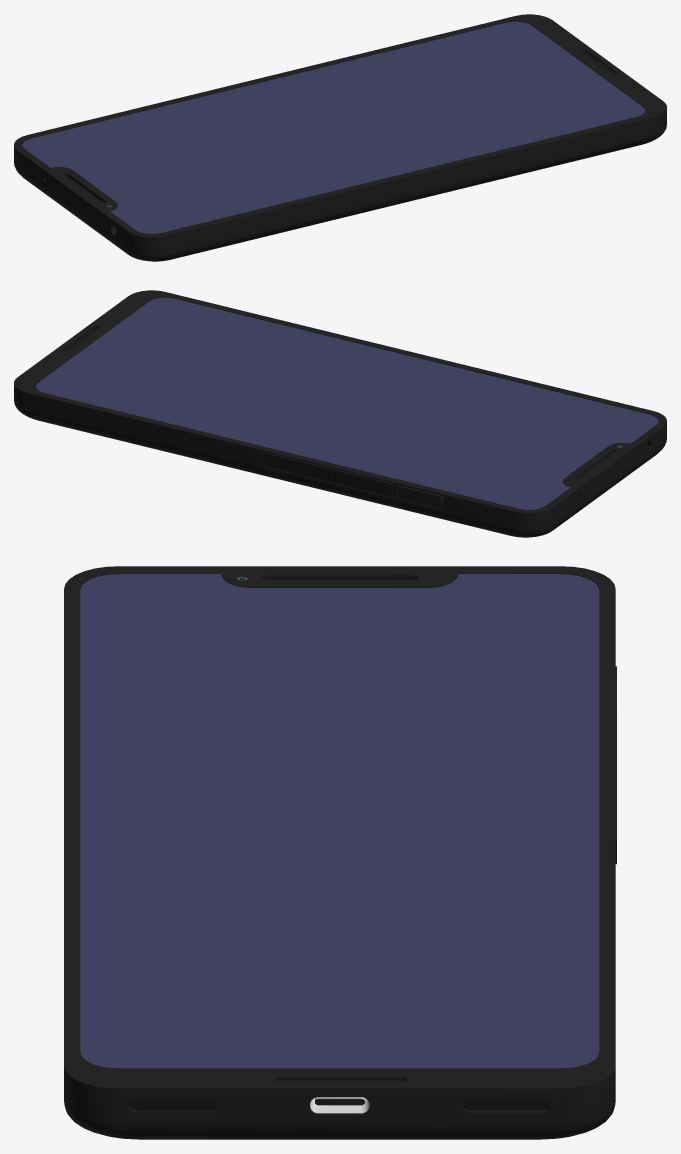
File: phone.glb
3 views of the same model, one above another, from view 1: azimuth 30°, elevation 25°; view 2: azimuth 150°, elevation 25°; view 3: azimuth 270°, elevation 25° (orthographic). The views are drawn at different scales.
Parts seen in each view (by area): view 1: Cube_0; view 2: Cube_0; view 3: Cube_0.
Boxes of the visible parts, x1=… form: Cube_0: x1=14, y1=14, x2=666, y2=261; Cube_0: x1=14, y1=290, x2=666, y2=537; Cube_0: x1=64, y1=566, x2=616, y2=1139.
Size of what is drawn, in the model's own units: 4.48 by 0.2422 by 2.
Materials: 7 (1 with a texture image).
